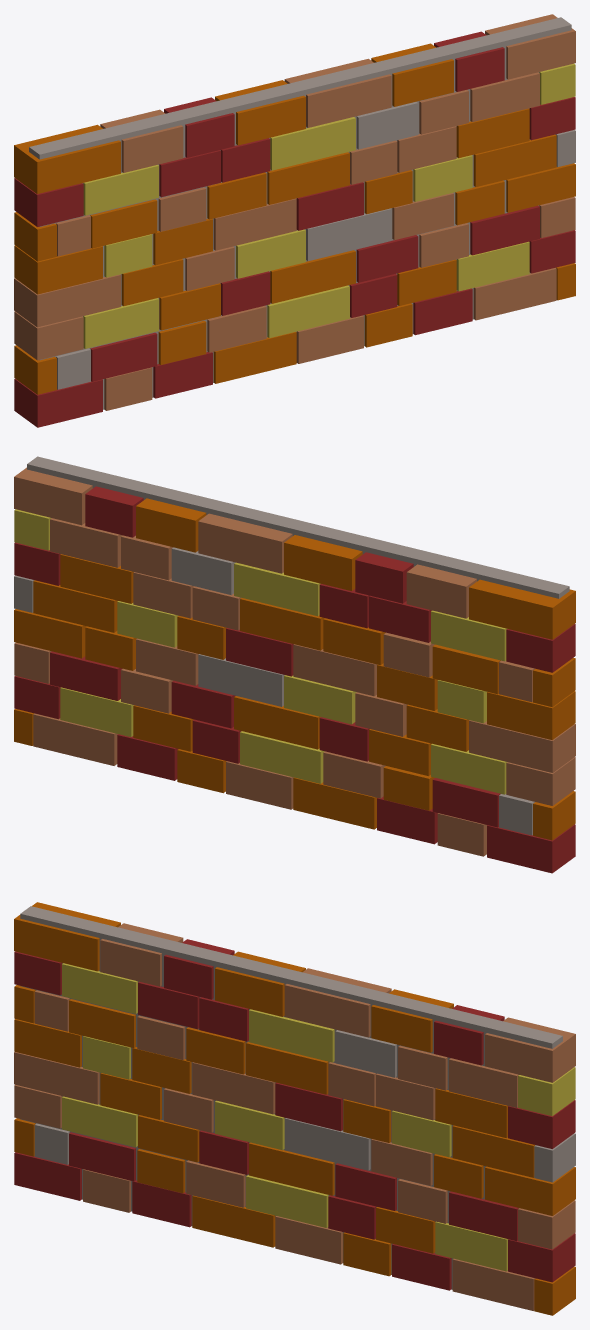
File: mur3.fbx
3 renders of one model, top to bottom at view 1: azimuth 30°, elevation 25°; view 2: azimuth 150°, elevation 25°; view 3: azimuth 330°, elevation 25°, orthographic.
Parts seen in each view (by area): view 1: Plane.002, Cube.144, Cube.180, Cube.149, Cube.214, Cube.178, Cube.156, Cube.192, Cube.185, Cube.165, Cube.201, Cube.207 (+61 smaller); view 2: Plane.002, Cube.144, Cube.149, Cube.180, Cube.152, Cube.148, Cube.178, Cube.214, Cube.156, Cube.192, Cube.201, Cube.165 (+61 smaller); view 3: Plane.002, Cube.152, Cube.149, Cube.144, Cube.188, Cube.156, Cube.192, Cube.185, Cube.180, Cube.165, Cube.201, Cube.148 (+61 smaller).
Part boxes in pixels (x1,y1,x2,y2): Plane.002: [29, 17, 571, 409]; Cube.144: [14, 124, 120, 193]; Cube.180: [14, 274, 120, 327]; Cube.149: [284, 58, 391, 127]; Cube.214: [14, 378, 102, 427]; Cube.178: [14, 245, 102, 294]; Cube.156: [270, 117, 355, 170]; Cube.192: [270, 250, 355, 303]; Cube.185: [306, 208, 391, 261]; Cube.165: [267, 152, 349, 204]; Cube.201: [267, 285, 349, 337]; Cube.207: [473, 268, 556, 320]; Plane.002: [27, 456, 569, 598]; Cube.144: [469, 579, 575, 639]; Cube.149: [198, 513, 292, 573]; Cube.180: [469, 720, 575, 772]; Cube.152: [14, 467, 92, 525]; Cube.148: [284, 535, 362, 590]; Cube.178: [487, 691, 575, 740]; Cube.214: [487, 824, 575, 873]; Cube.156: [234, 562, 320, 616]; Cube.192: [234, 696, 320, 749]; Cube.201: [240, 731, 324, 783]; Cube.165: [240, 598, 324, 650]; Plane.002: [20, 906, 562, 1289]; Cube.152: [485, 1017, 575, 1082]; Cube.149: [284, 968, 391, 1037]; Cube.144: [14, 902, 120, 971]; Cube.188: [485, 1166, 575, 1215]; Cube.156: [249, 1009, 334, 1062]; Cube.192: [249, 1142, 334, 1195]; Cube.185: [284, 1118, 370, 1170]; Cube.180: [14, 1052, 99, 1104]; Cube.165: [246, 1042, 328, 1094]; Cube.201: [246, 1175, 328, 1227]; Cube.148: [215, 951, 305, 1016].
Size of the model in its own units: 624 by 299 by 46.57.
